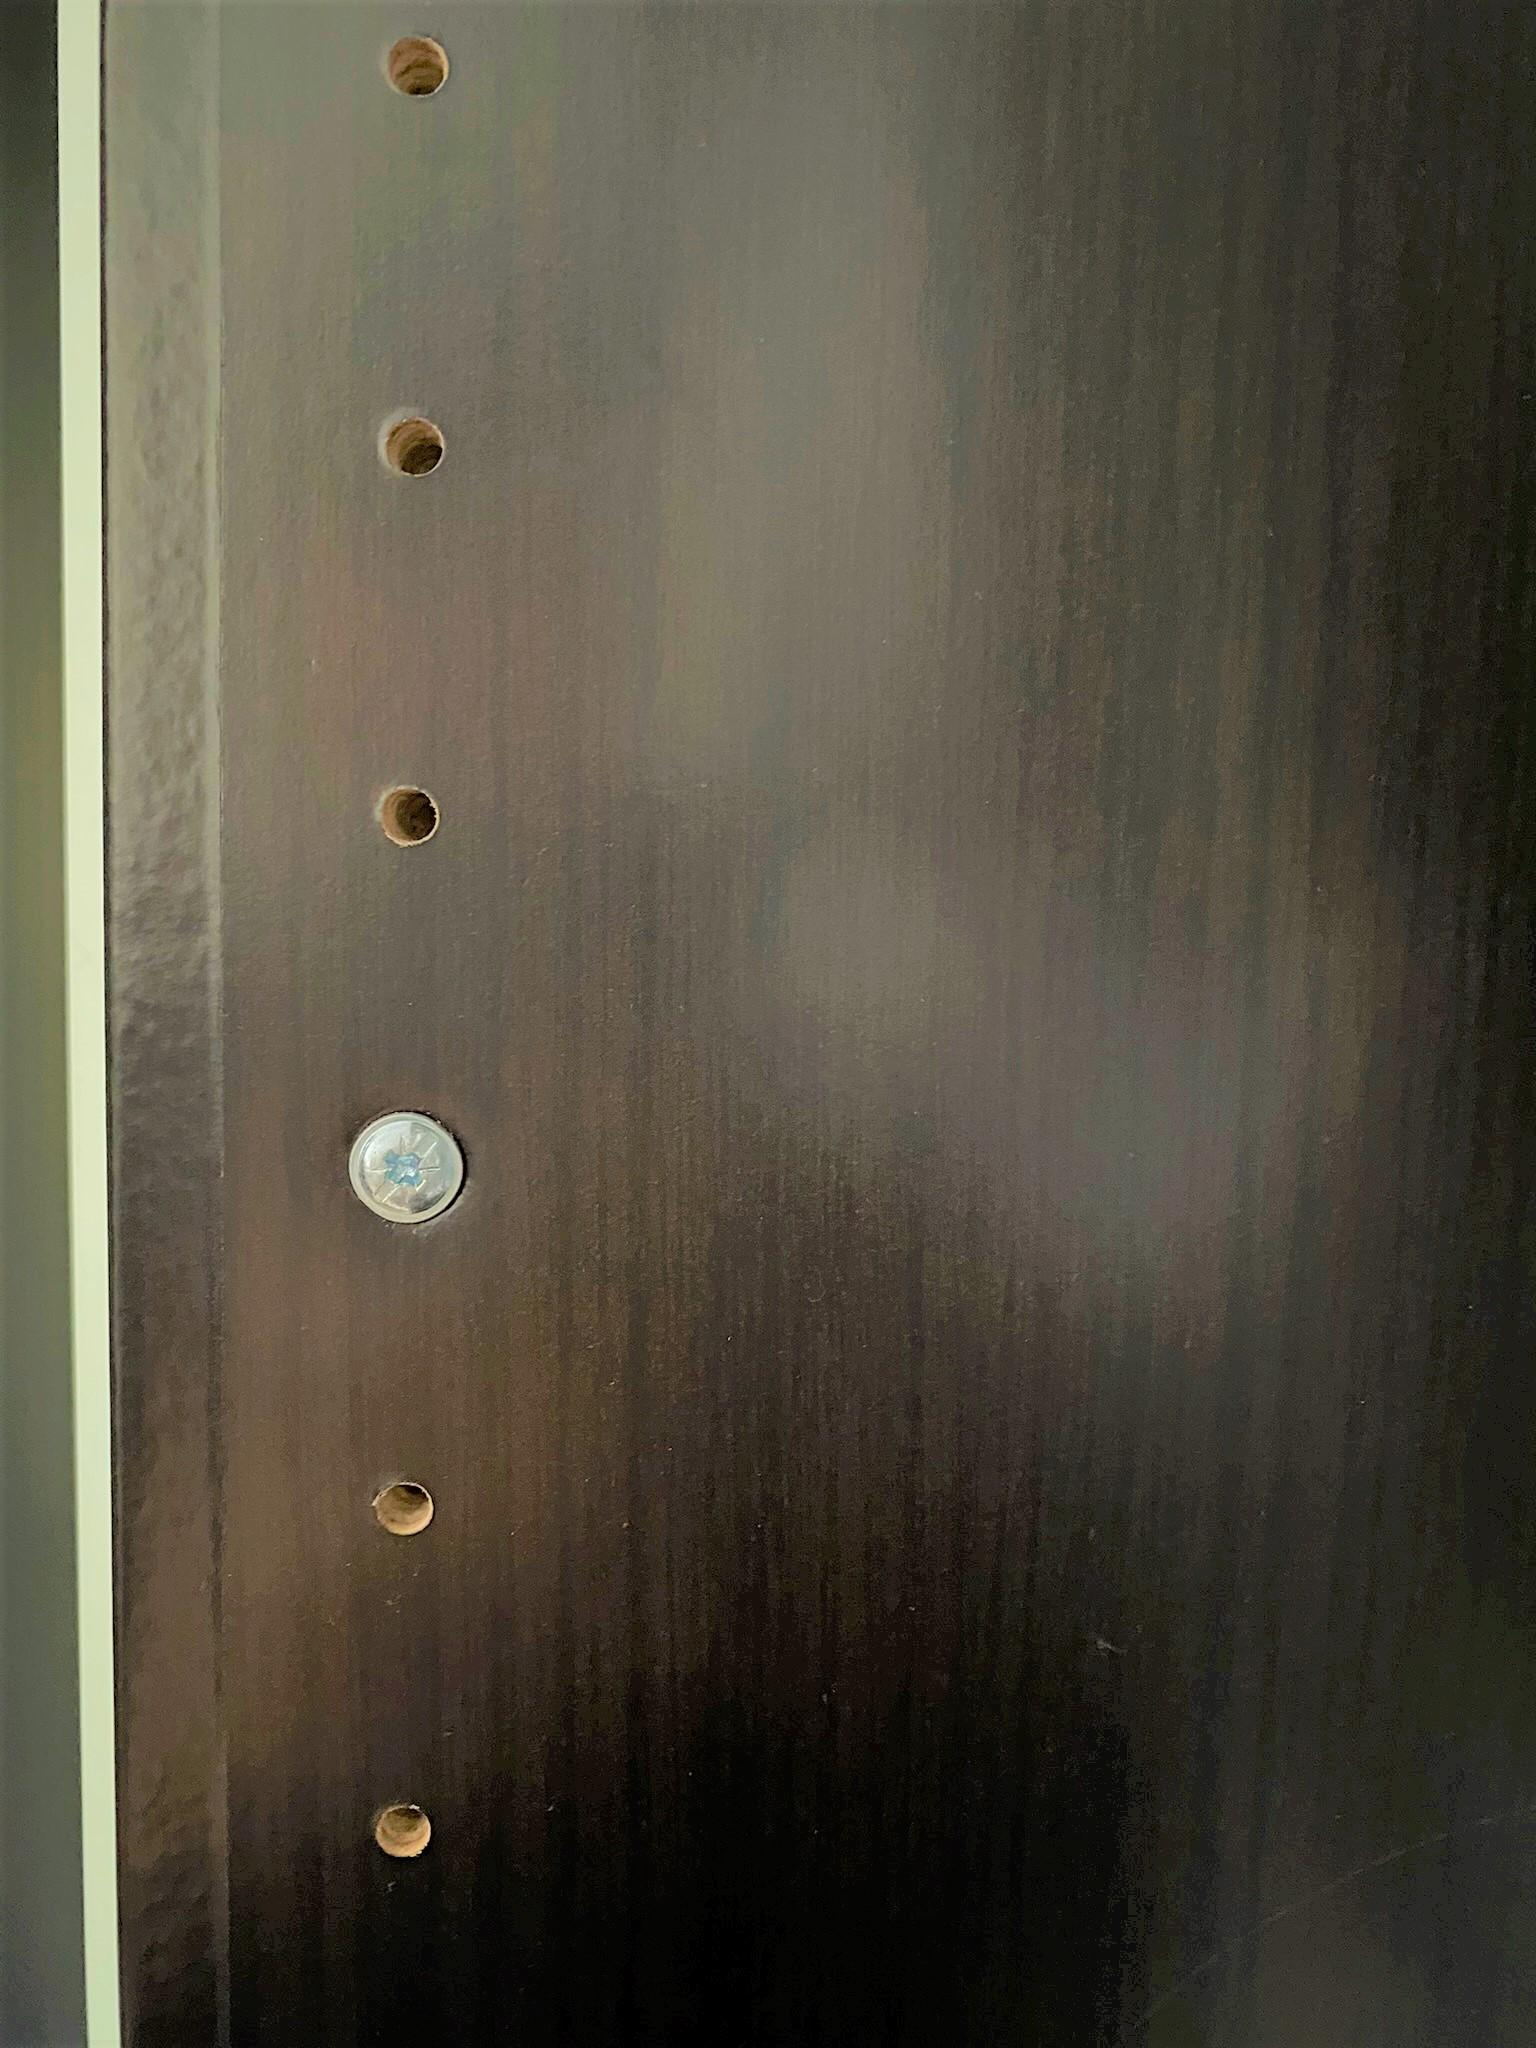PH: (342, 1109, 470, 1226)
